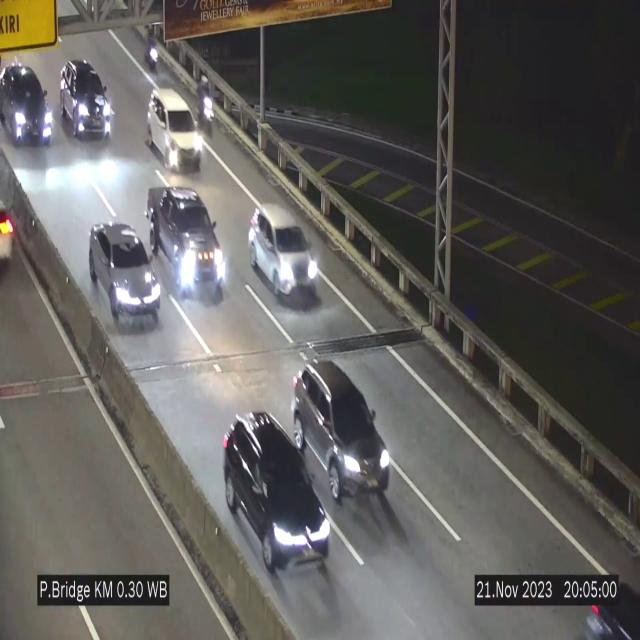Car: (221, 410, 331, 574), (290, 362, 392, 502), (146, 182, 228, 305), (89, 222, 161, 328), (248, 203, 320, 300), (0, 63, 56, 150), (146, 90, 202, 170), (60, 60, 112, 137), (0, 183, 24, 285)
Motorcycle: (197, 71, 215, 139), (145, 24, 160, 73)
